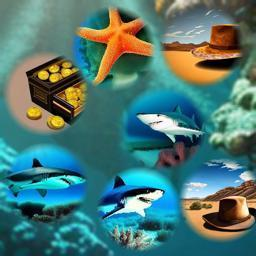not an animal: (195, 183, 255, 237), (189, 20, 245, 68)
treasure: (24, 56, 91, 131)
